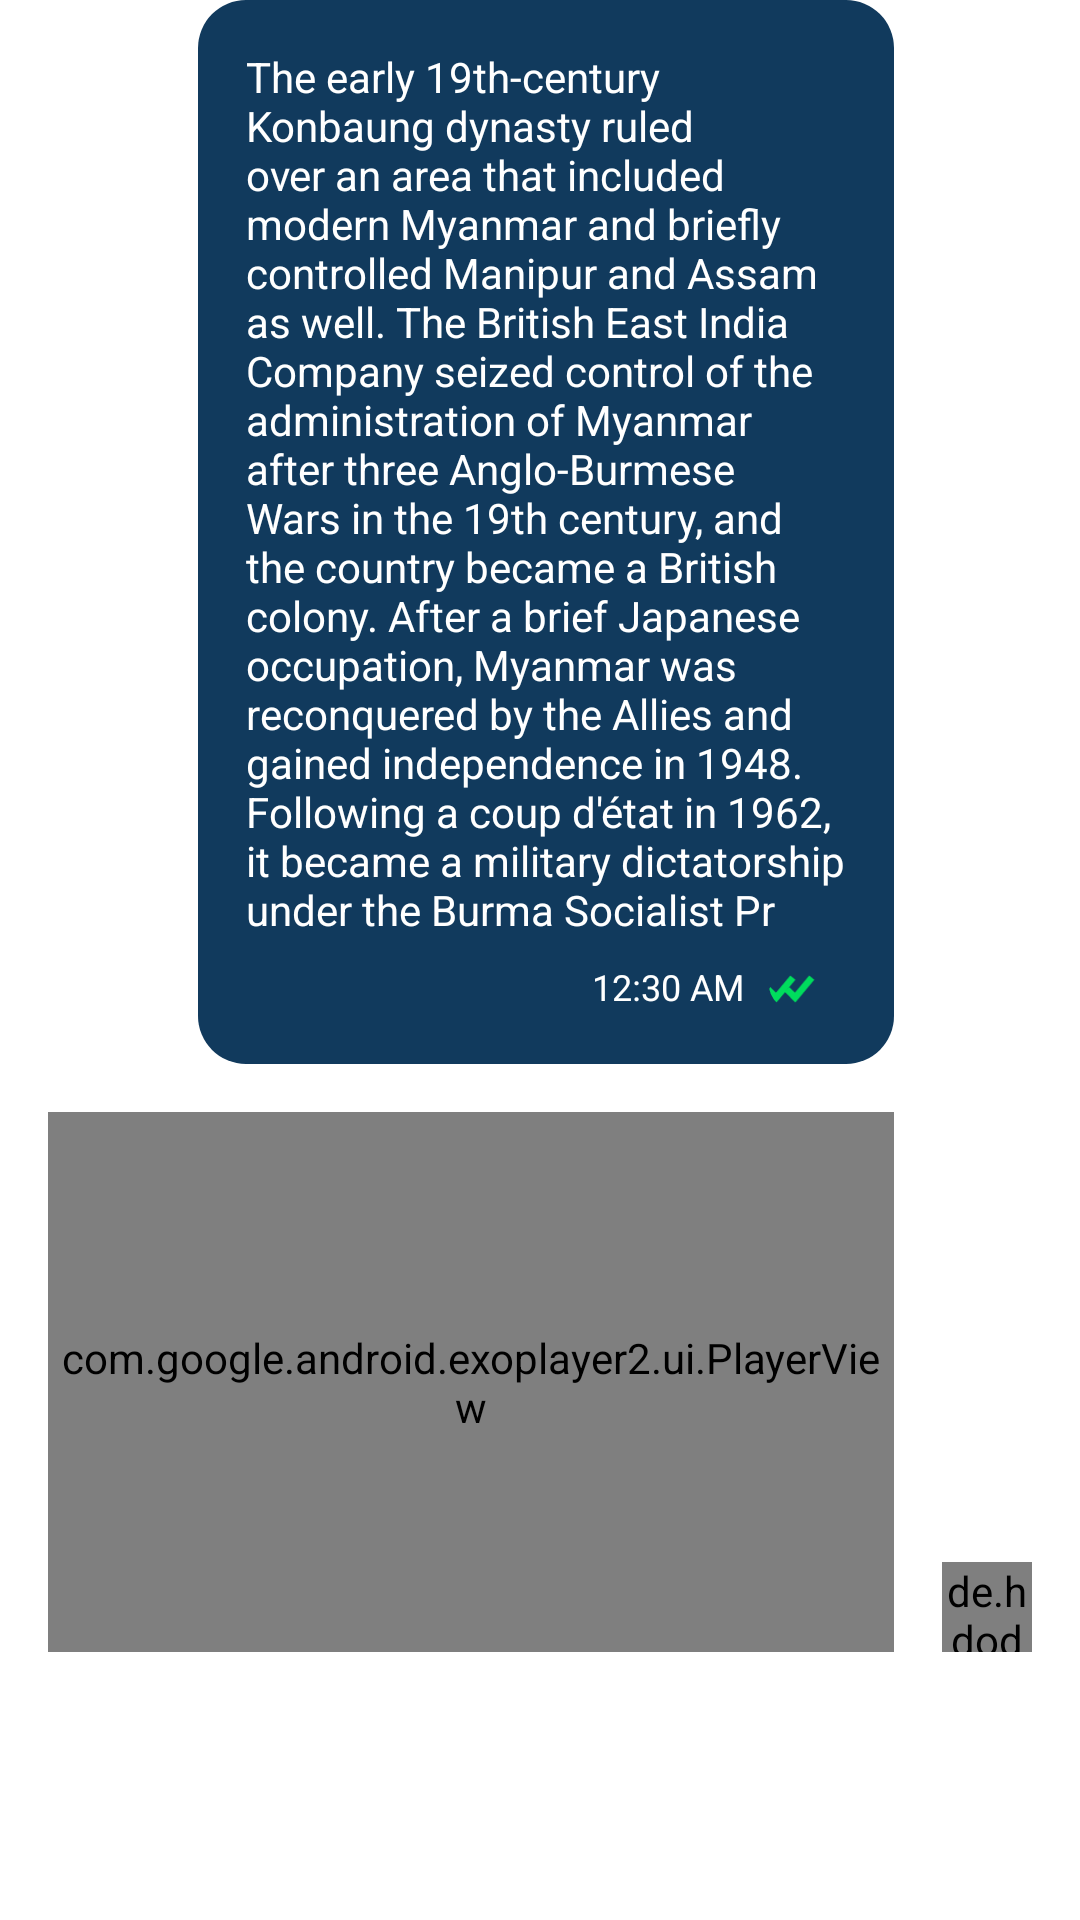

Where to tap for icons on this 1080 x 1920 app screen, as (x=x, y=y):
seen: (x=792, y=989)
